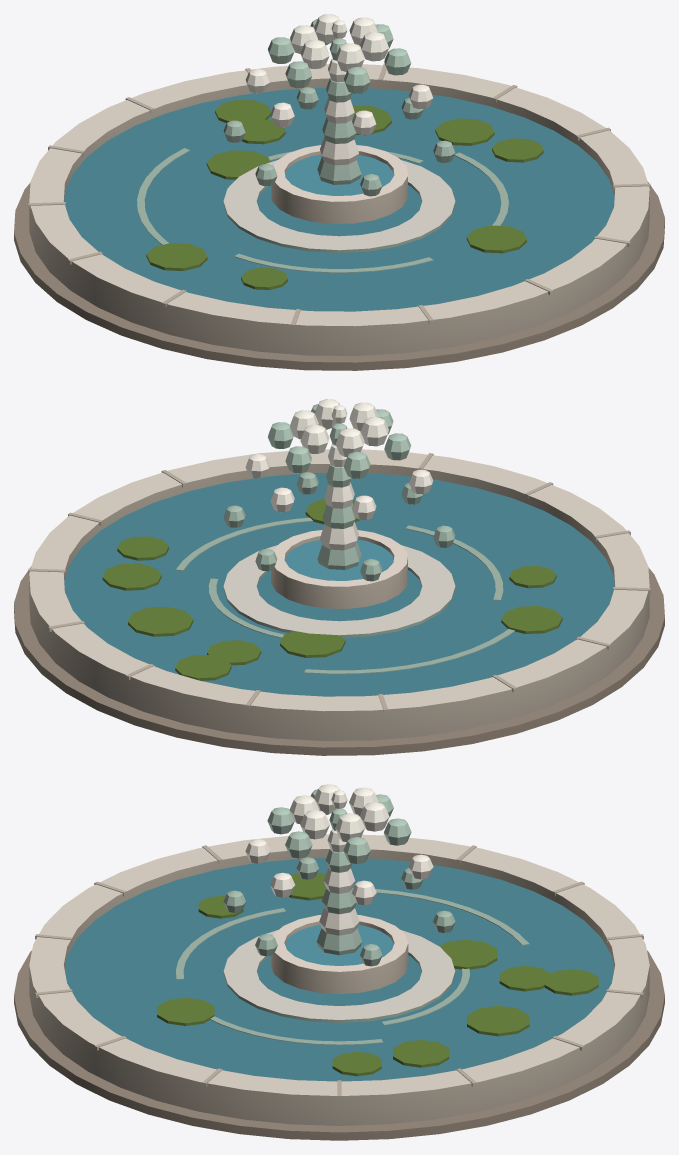
The model's file is lm_fountain.glb.
The picture shows the model from 3 angles, top to bottom: view 1: azimuth 30°, elevation 25°; view 2: azimuth 150°, elevation 25°; view 3: azimuth 270°, elevation 25°; orthographic projection.
Parts seen in each view (by area): view 1: fountain_water, fountain_rim, fountain_spray, fountain_centre; view 2: fountain_water, fountain_rim, fountain_spray, fountain_centre; view 3: fountain_water, fountain_rim, fountain_spray, fountain_centre.
Boxes of the visible parts, x1,y1,x2,y2 form: fountain_water: (64, 87, 614, 311); fountain_rim: (14, 64, 664, 370); fountain_spray: (223, 14, 455, 252); fountain_centre: (146, 99, 543, 289); fountain_water: (64, 473, 614, 696); fountain_rim: (14, 449, 664, 755); fountain_spray: (223, 399, 455, 637); fountain_centre: (102, 498, 562, 680); fountain_water: (64, 858, 614, 1081); fountain_rim: (14, 834, 664, 1140); fountain_spray: (223, 784, 455, 1022); fountain_centre: (157, 873, 598, 1076).
Bounding box in the file's own units: 8.5 × 3.07 × 8.5.
Materials: 1 (1 with a texture image).
